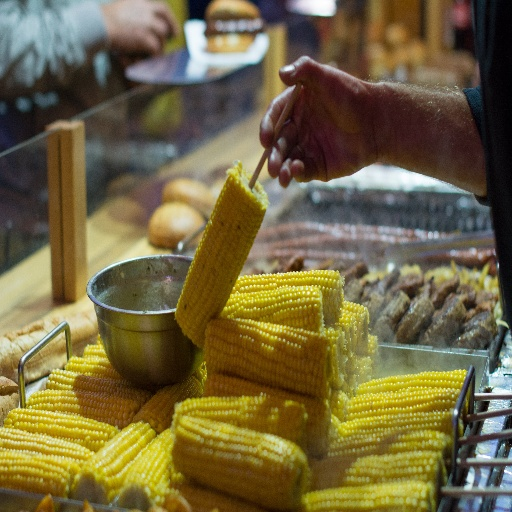hand: (261, 47, 500, 239), (99, 0, 177, 56)
